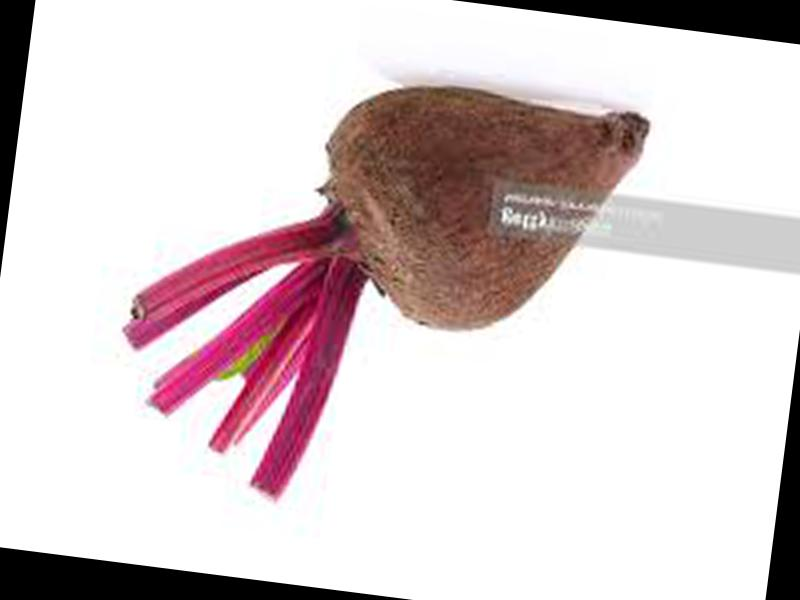Beet: (104, 51, 651, 540)
